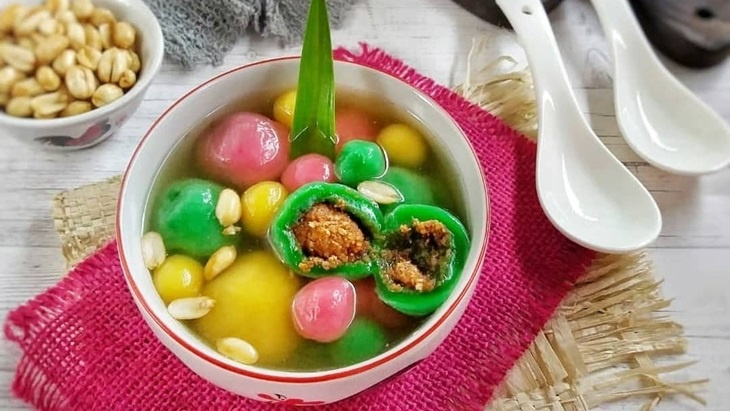ronde: (141, 81, 472, 370)
